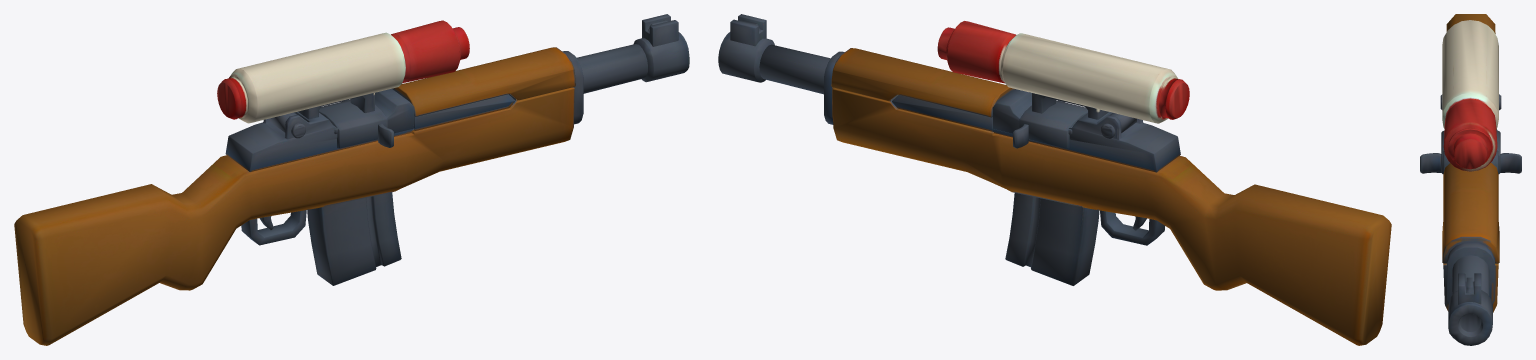
File: wpn_marqueur.glb
The picture shows the model from 3 angles, left to right: view 1: azimuth 30°, elevation 25°; view 2: azimuth 150°, elevation 25°; view 3: azimuth 270°, elevation 25°; orthographic projection. The views are drawn at different scales.
Parts seen in each view (by area): view 1: wpn_marqueur; view 2: wpn_marqueur; view 3: wpn_marqueur.
Boxes of the visible parts, bbox=[...] form: wpn_marqueur: bbox=[14, 14, 689, 345]; wpn_marqueur: bbox=[718, 14, 1391, 345]; wpn_marqueur: bbox=[1420, 14, 1521, 345].
Size of the model in its own units: 0.9995 by 0.3364 by 0.1323.
Materials: 1 (1 with a texture image).
